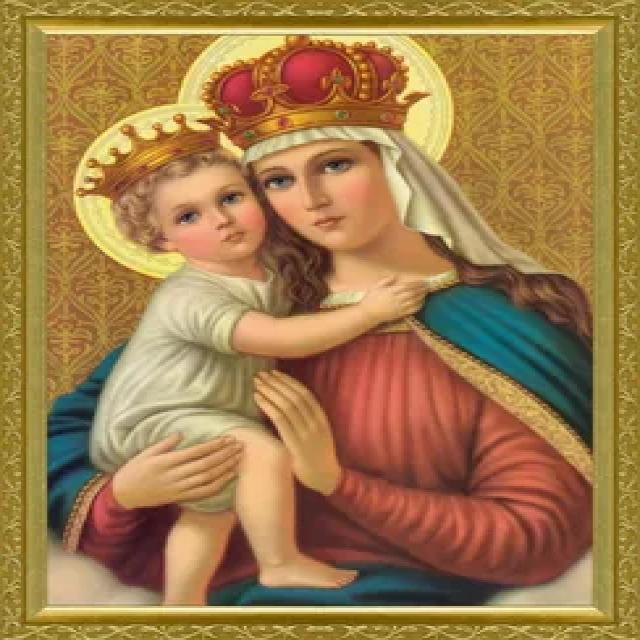mother of god: (38, 91, 595, 614)
